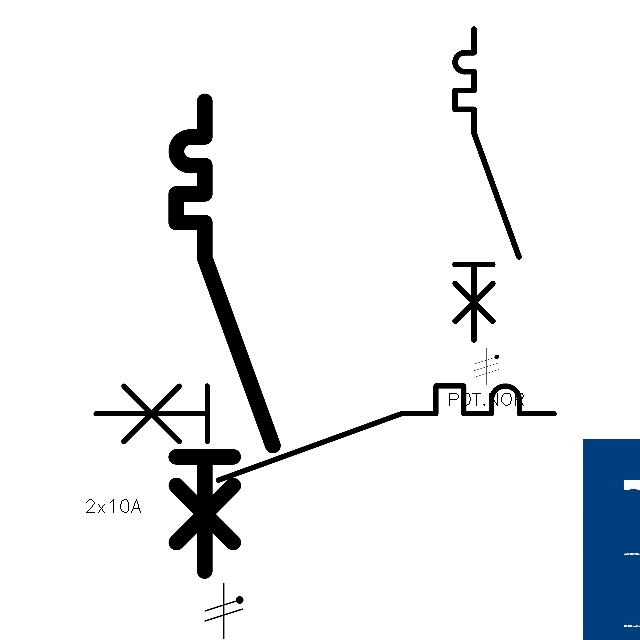interruptor_termomagnetico: (164, 89, 285, 583), (84, 374, 566, 492), (447, 21, 527, 348)
